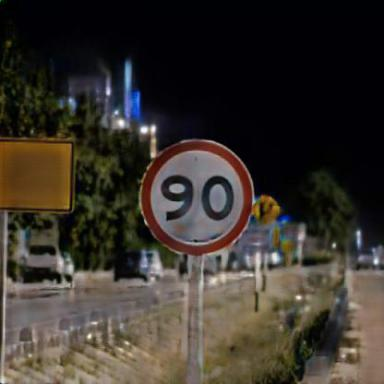Speed_limit_90: (141, 144, 252, 250)
